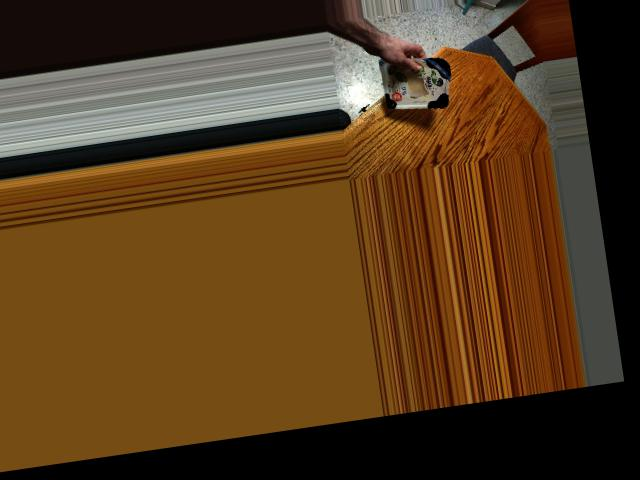cheese: (369, 50, 457, 111)
